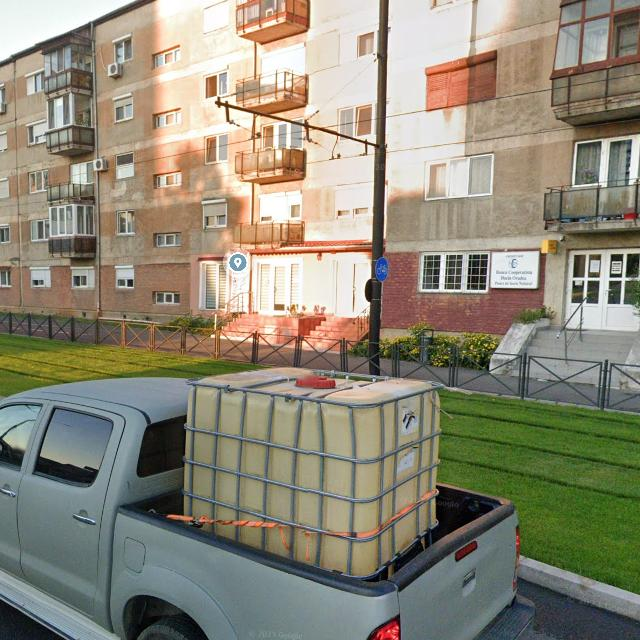mand_bike_lane: (375, 257, 388, 282)
